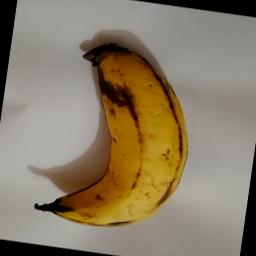Banana Unripe: (41, 36, 204, 235)
